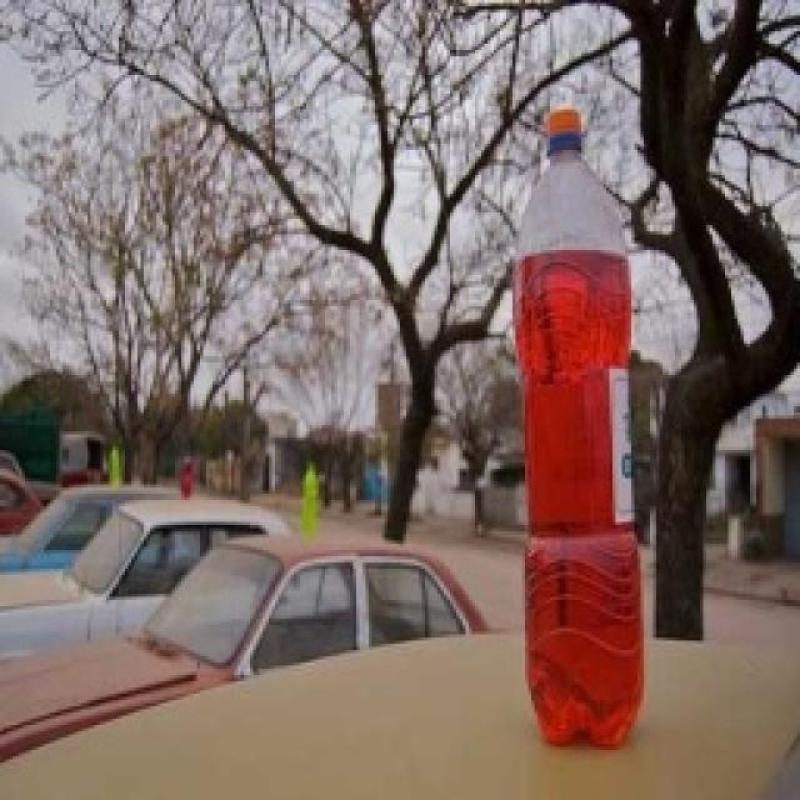botella: (508, 108, 644, 748)
